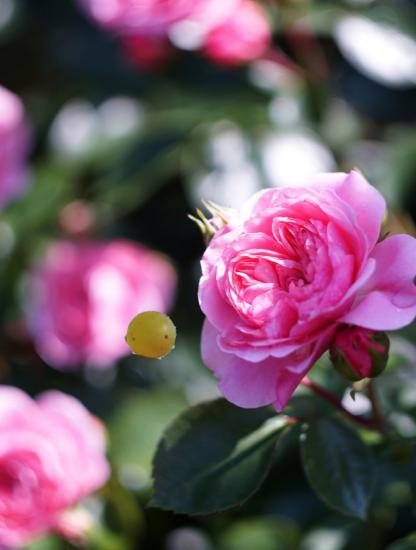Grape: (126, 309, 177, 360)
